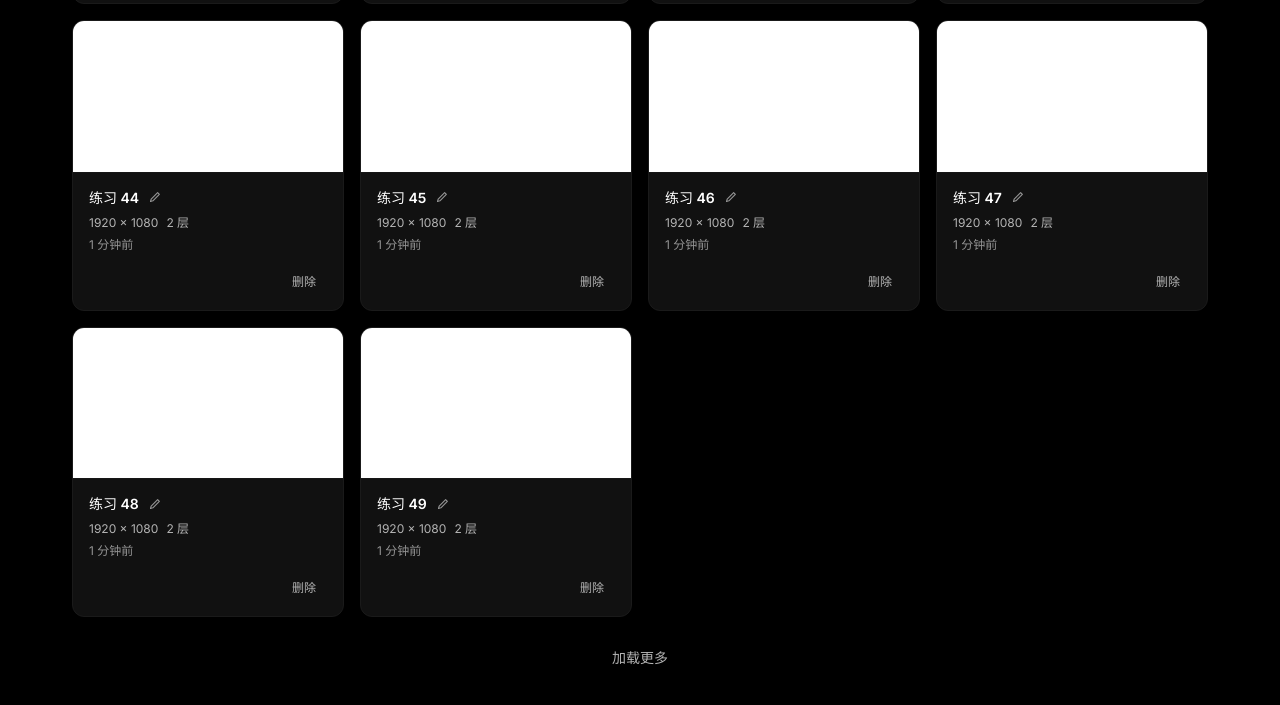
Test: 画布库分页 › 首页超过 50 张时显示「加载更多」，点击后追加下一页
(page scrolled)
Click the button "加载更多".
click(640, 657)  # box [597,641,683,673]
(page scrolled)
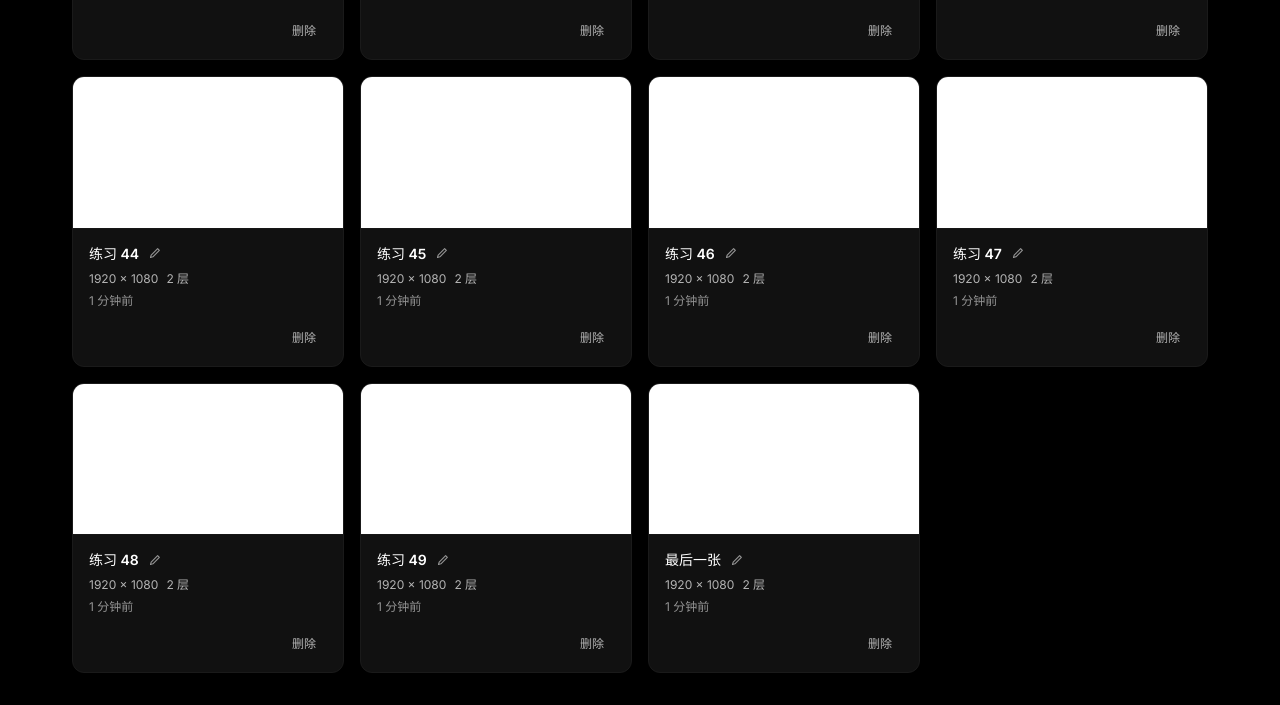
Result: the text "最后一张" is shown at [665,549,721,570]
Result: the button "加载更多" is gone
